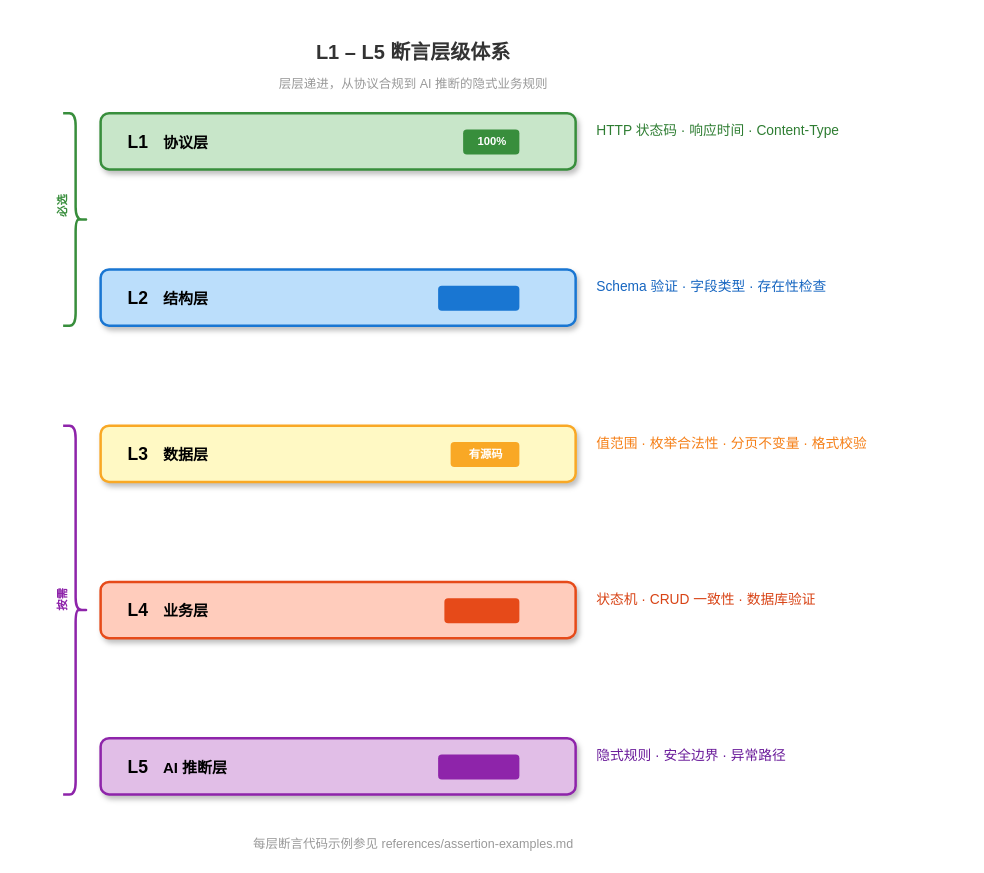
This 984x873 diagram has some shape labels left out. Here are the shapes that lost their labels. From the top down, the centre of each, then its label:
At point (478, 297): "有响应体".
At point (481, 610): "配置 DB".
At point (478, 766): "高置信度".
